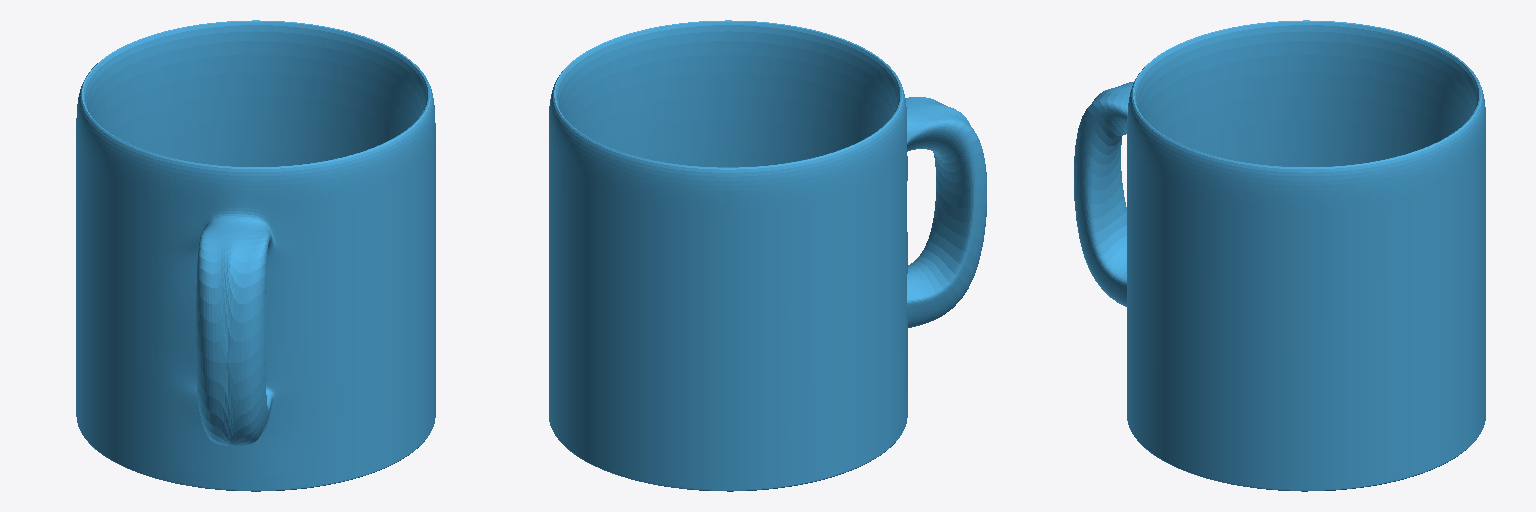
The robot description file, URDF, robot "mug":
<?xml version="0.0" ?>
<robot name="mug">

  <link name="base_link">
    <inertial>
      <origin rpy="0 0 0" xyz="0 0 0"/>
       <mass value=".0"/>
       <inertia ixx="0" ixy="0" ixz="0" iyy="0" iyz="0" izz="0"/>
    </inertial>
  </link>

  <link name="obj">
    <inertial>
      <origin rpy="0 0 0" xyz="0 0 0"/>
       <mass value=".0"/>
       <inertia ixx="0" ixy="0" ixz="0" iyy="0" iyz="0" izz="0"/>
    </inertial>
    <visual>
      <origin rpy="1.57 0 0" xyz="0 0 0"/>
      <geometry>
        <mesh filename="package://uwds3/models/cad_models/obj/mug.obj" scale="0.04 0.04 0.04"/>
      </geometry>


    </visual>
  </link>

  <joint name="base_to_obj" type="revolute">
    <parent link="base_link"/>
    <child link="obj"/>
    <axis xyz="0 0 1"/>
    <limit effort="1000.0" lower="0.0" upper="1.57" velocity="0.5"/>
    <origin rpy="0 0 0" xyz="0 0 0"/>
  </joint>




</robot>

--- Facts derived from the render (not from the file) ---
3 views of the same robot in one strip: view 1: azimuth 30°, elevation 25°; view 2: azimuth 150°, elevation 25°; view 3: azimuth 270°, elevation 25° (orthographic).
Model mug with 2 links and 1 joints (1 revolute), rooted at base_link, posed all joints at 0.
Visible links, largest first — view 1: obj; view 2: obj; view 3: obj.
Boxes of the visible links, x1,y1,x2,y2 form: obj: (76, 20, 435, 491); obj: (549, 20, 986, 491); obj: (1074, 20, 1485, 491).
Size in the robot's own frame: 0.0797 by 0.0913 by 0.079 metres.
Meshes: 1 distinct files referenced, 1 mesh visuals loaded (1 OBJ).